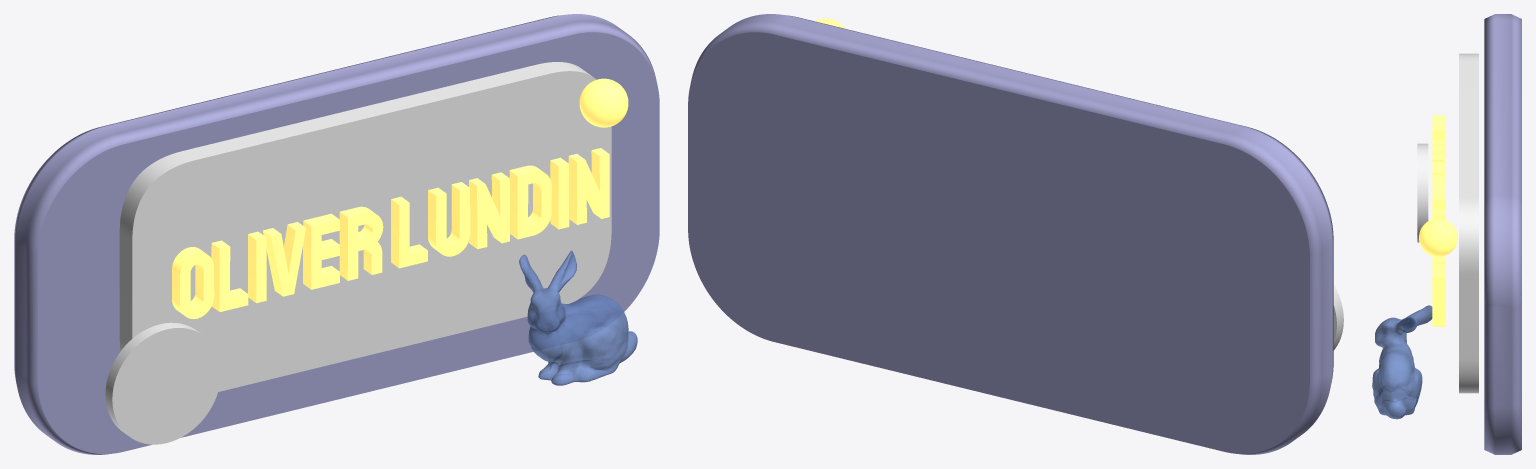
The model's file is board3.glb.
The picture shows the model from 3 angles, left to right: view 1: azimuth 30°, elevation 25°; view 2: azimuth 150°, elevation 25°; view 3: azimuth 270°, elevation 25°; orthographic projection. The views are drawn at different scales.
Visible parts, largest first — view 1: Rectangle 2, Rectangle, Text, Ellipse, Bunny, Sphere; view 2: Rectangle; view 3: Rectangle, Rectangle 2, Bunny, Text, Sphere, Ellipse.
Boxes of the visible parts, <box> form: Rectangle 2: <box>119,62,611,391</box>; Rectangle: <box>14,14,659,454</box>; Text: <box>172,148,609,319</box>; Ellipse: <box>105,322,220,444</box>; Bunny: <box>519,250,637,385</box>; Sphere: <box>579,78,628,127</box>; Rectangle: <box>688,14,1333,454</box>; Rectangle: <box>1484,14,1521,454</box>; Rectangle 2: <box>1459,53,1478,393</box>; Bunny: <box>1372,305,1432,419</box>; Text: <box>1432,115,1445,326</box>; Sphere: <box>1419,218,1457,256</box>; Ellipse: <box>1417,143,1428,242</box>.
Bounding box in the file's own units: 1.78 × 0.857 × 0.4614.
